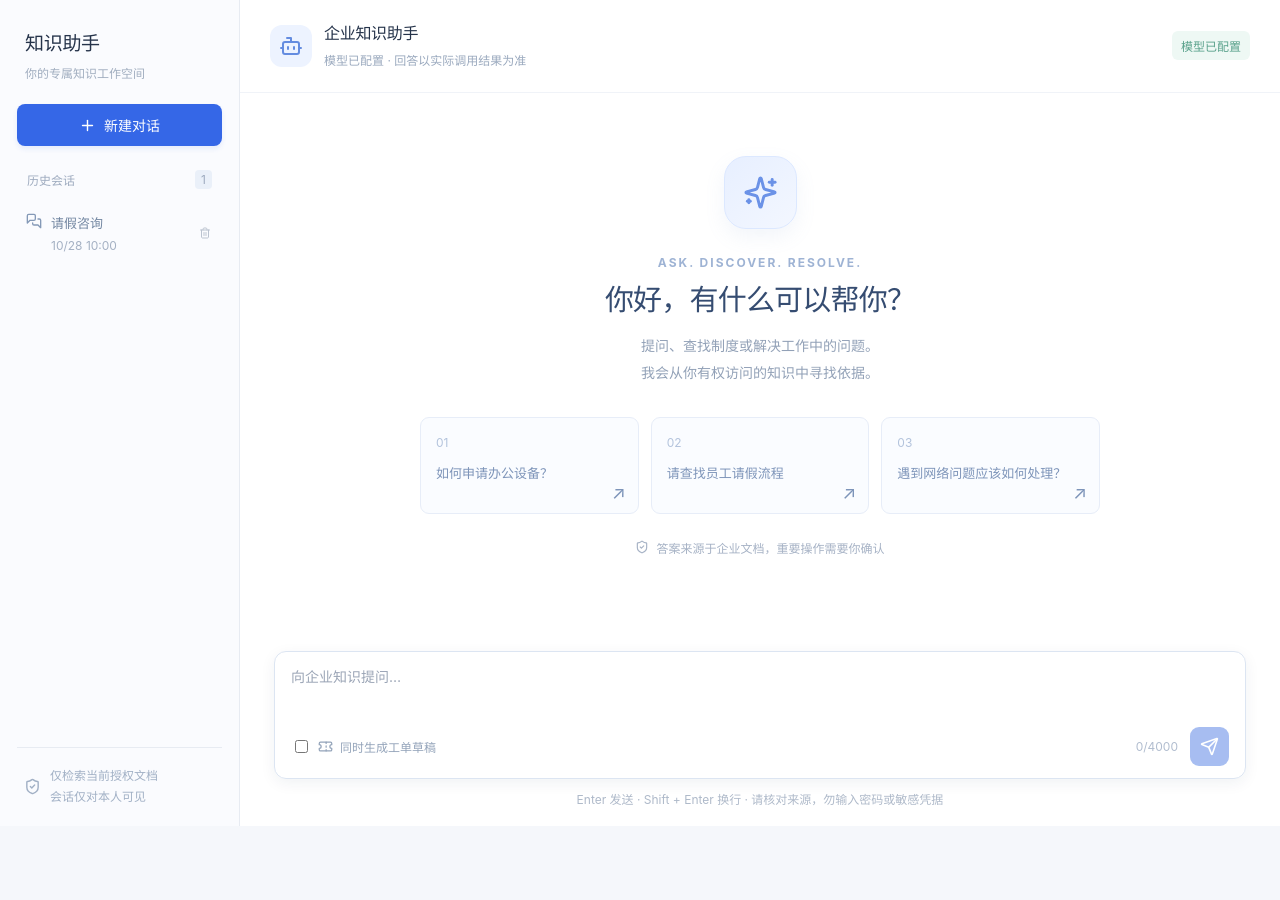
Test: shows only cited sources with their original numbers: 无效编号[0][99]不能指向现有资料。
This screenshot has width=1280, height=900.
Click the button "请假咨询 10/28 10:00".
click(104, 233)  # box [17, 201, 191, 265]
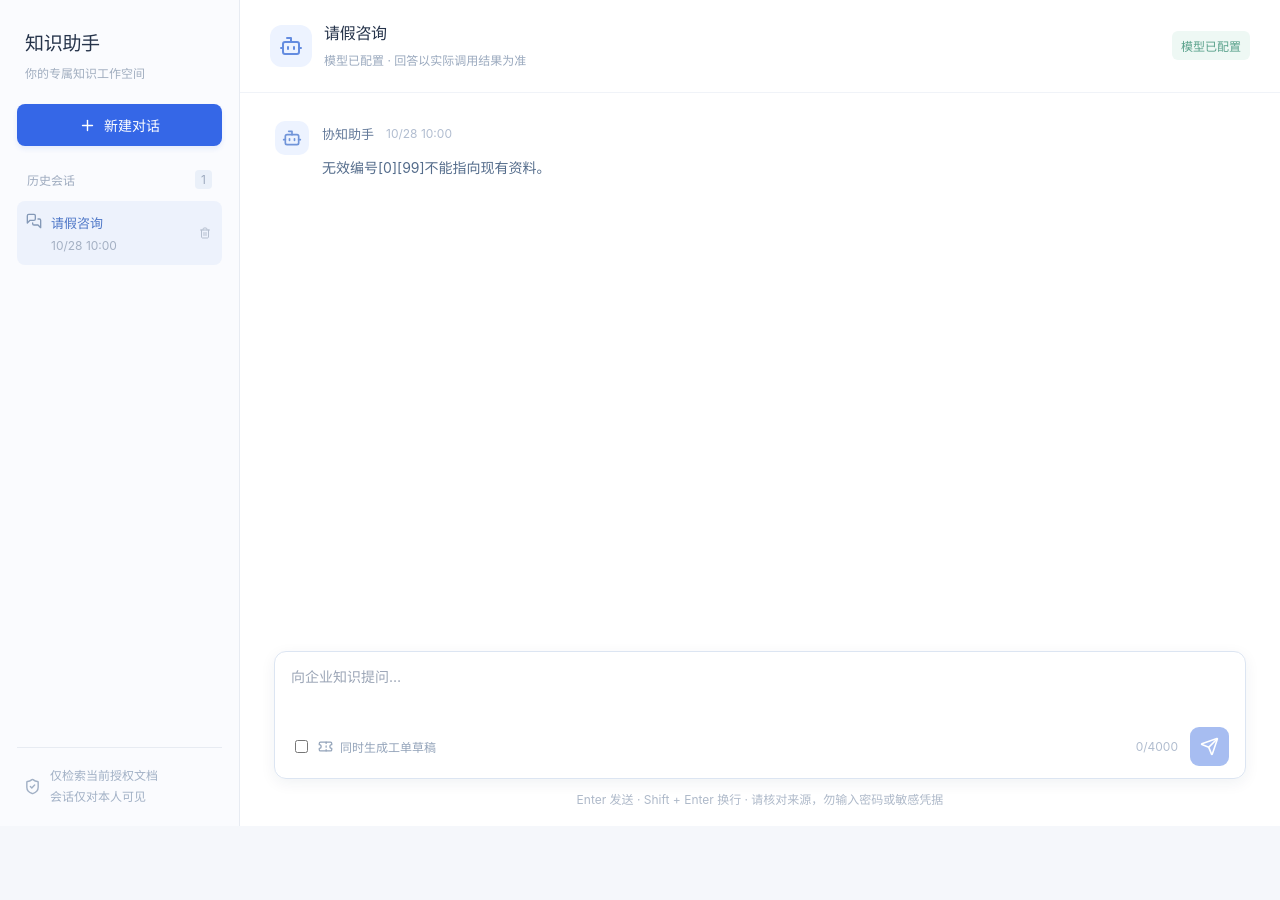
Expected: the text "无效编号[0][99]不能指向现有资料。" is shown, [322, 159, 551, 176]
